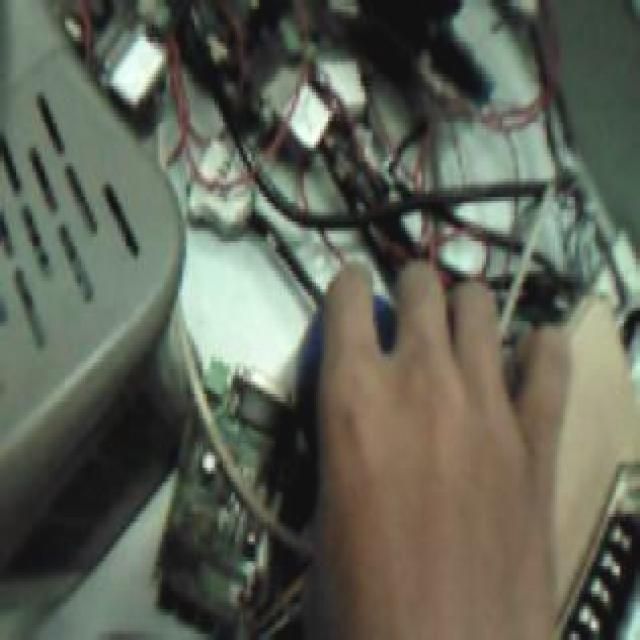BallPurple: (292, 294, 414, 488)
